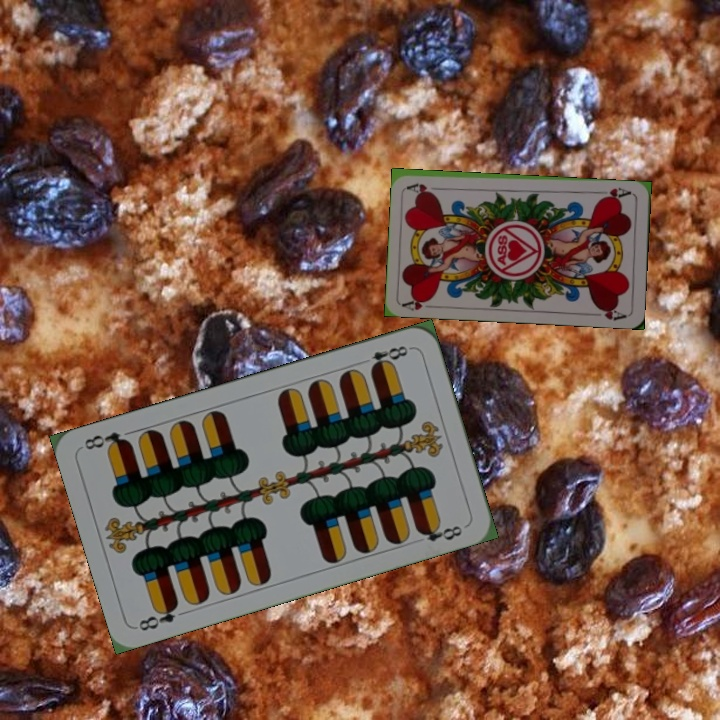E8: (134, 598, 181, 634), (366, 341, 414, 373)
HA: (594, 184, 633, 203), (399, 293, 434, 313)
